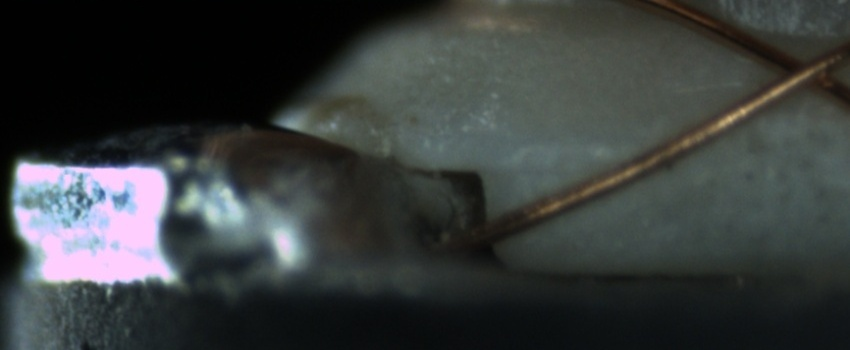CL: (749, 36, 846, 106)
DL: (507, 125, 655, 191)
